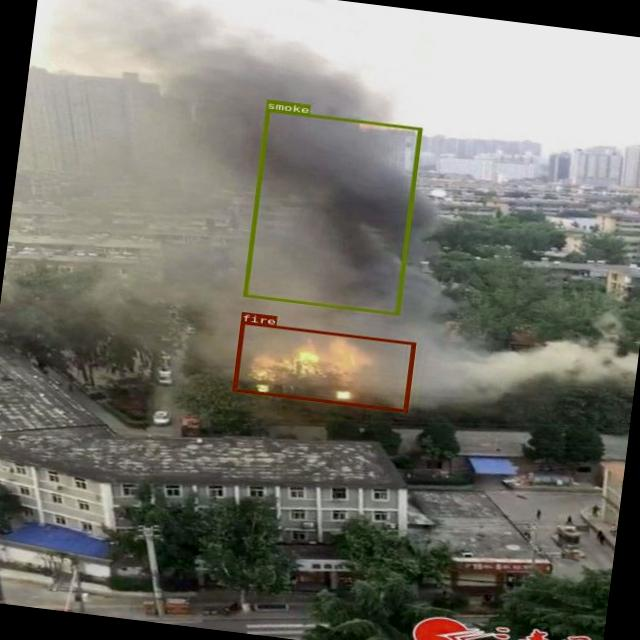fire: (232, 320, 414, 411)
smoke: (243, 108, 422, 314)
